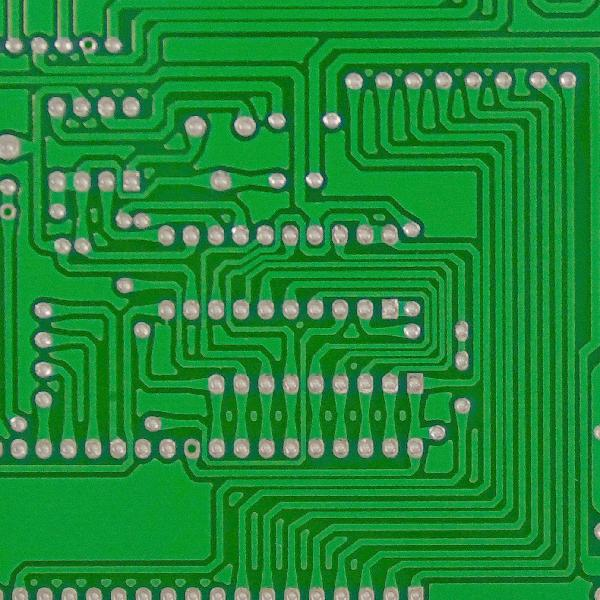missing_hole: (181, 437, 205, 459), (1, 200, 21, 220), (80, 35, 97, 55)
